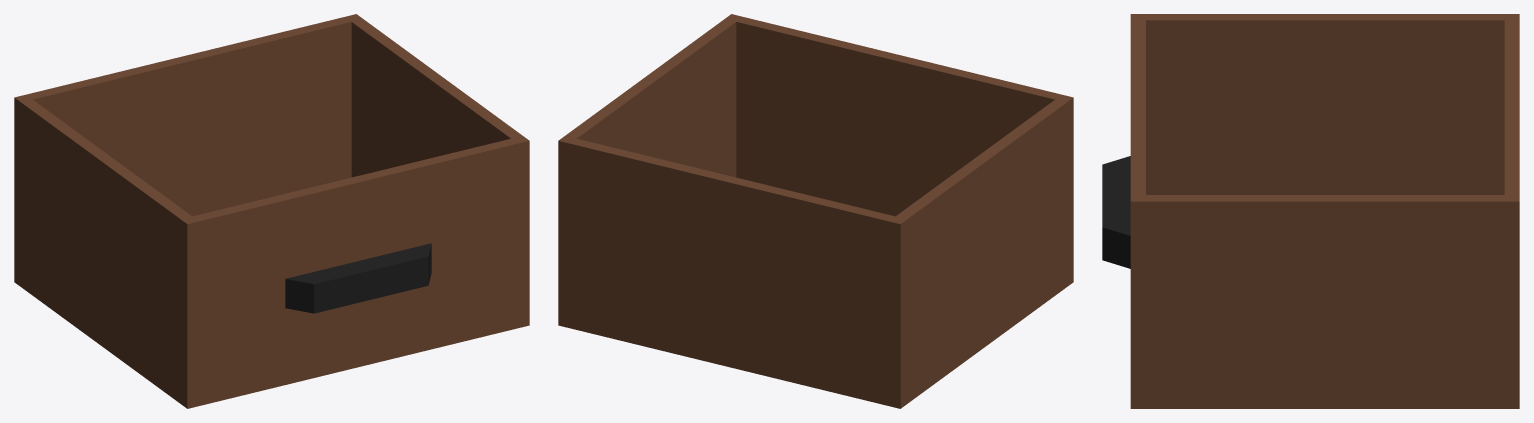
File: Drawer_Mini_1.obj
3 renders of one model, left to right at view 1: azimuth 30°, elevation 25°; view 2: azimuth 150°, elevation 25°; view 3: azimuth 270°, elevation 25°, orthographic. The views are drawn at different scales.
Visible parts, largest first — view 1: Drawer_Mini_1; view 2: Drawer_Mini_1; view 3: Drawer_Mini_1.
Part boxes in pixels (bbox=[...]): Drawer_Mini_1: bbox=[14, 14, 529, 408]; Drawer_Mini_1: bbox=[558, 14, 1073, 408]; Drawer_Mini_1: bbox=[1102, 14, 1519, 408].
Size of the model in its own units: 0.4712 by 0.243 by 0.4433.
